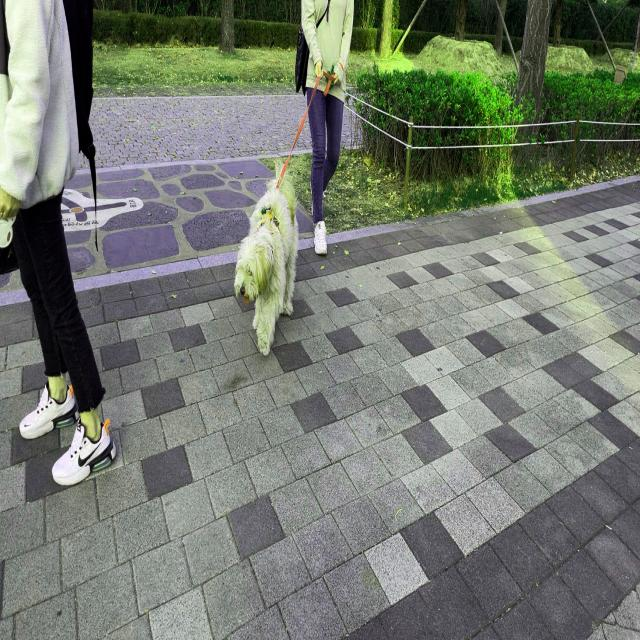Leashed_Dog: (234, 62, 328, 357)
